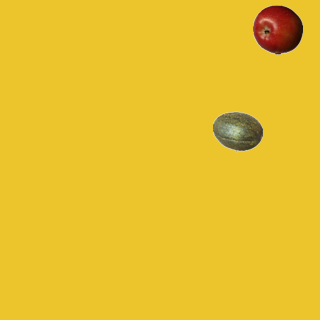Apple Braeburn: (252, 4, 302, 54)
Melon Piel de Sapo: (212, 106, 262, 156)
